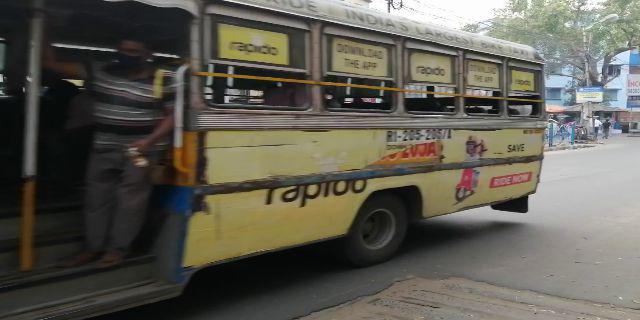Bus: (1, 3, 553, 307)
